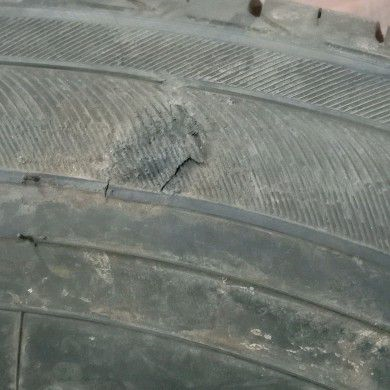cut: (157, 154, 207, 193), (16, 231, 40, 250), (102, 175, 111, 200)
